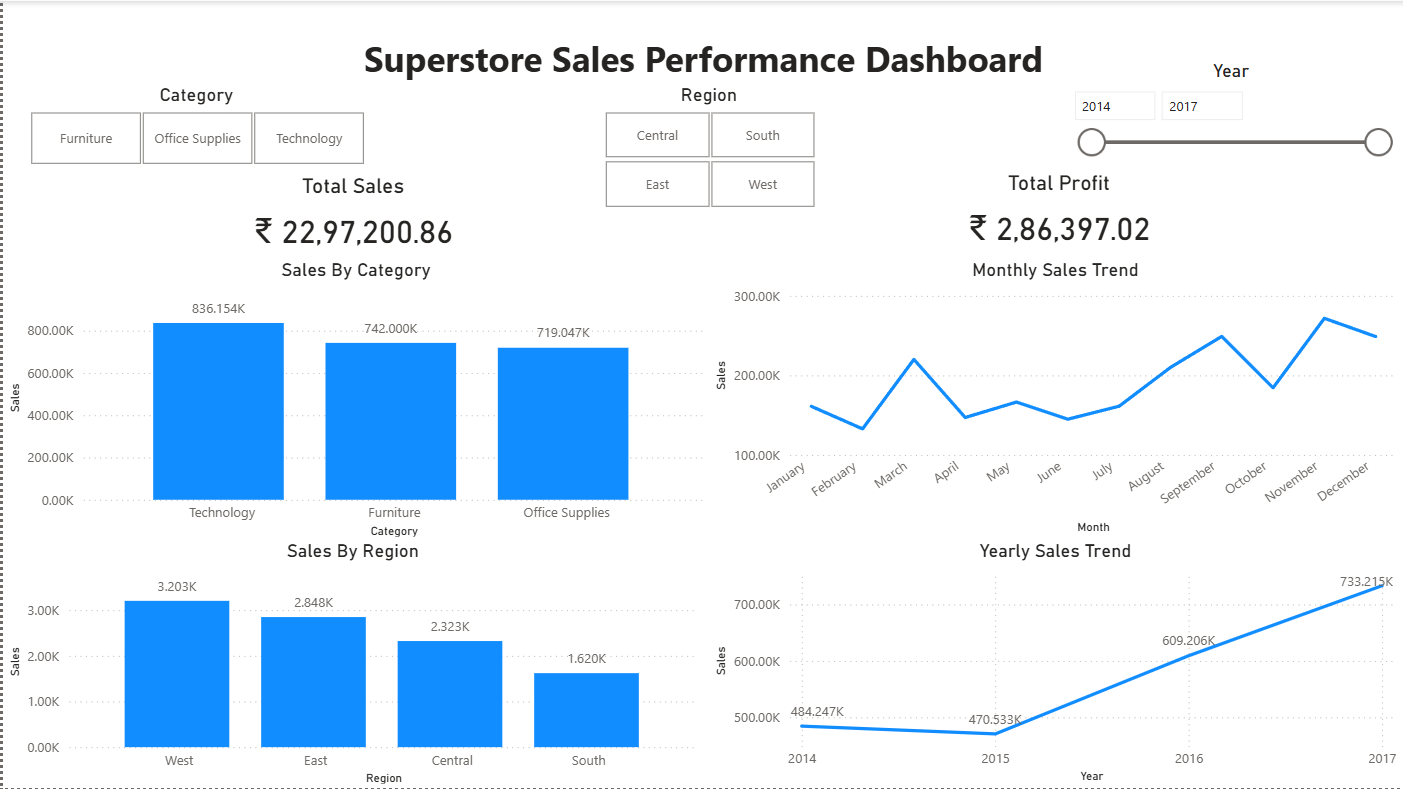

What the dashboard file says about the page in this screenshot:
{"tool":"powerbi","page":{"name":"Sales Overview","canvas":[1280,720],"ordinal":0},"visuals":[{"type":"card","title":"Total Sales","fields":{"Values":["Sum(Sample - Superstore (2).Sales)"]},"box":[212,157.5,218,80.3],"z":0},{"type":"card","title":"Total Profit","fields":{"Values":["Sum(Sample - Superstore (2).Profit)"]},"box":[870.7,154.4,192.3,80.3],"z":1000},{"type":"clusteredColumnChart","title":"Sales By Category","fields":{"Category":["Sample - Superstore (2).Category"],"Y":["Sum(Sample - Superstore (2).Sales)"]},"box":[0,236.2,646.6,258.9],"z":2000},{"type":"clusteredColumnChart","title":"Sales By Region","fields":{"Category":["Sample - Superstore (2).Region"],"Y":["CountNonNull(Sample - Superstore (2).State)"]},"box":[0,492.1,640.5,228.6],"z":3000},{"type":"lineChart","title":"Yearly Sales Trend","fields":{"Category":["Sample - Superstore (2).Year"],"Y":["Sum(Sample - Superstore (2).Sales)"]},"box":[646.6,492.1,632.9,227.1],"z":4000},{"type":"lineChart","title":"Monthly Sales Trend","fields":{"Y":["Sum(Sample - Superstore (2).Sales)"],"Category":["Sample - Superstore (2).Order Date.Variation.Date Hierarchy.Month"]},"box":[646.6,236.2,632.9,255.9],"z":5000},{"type":"textbox","box":[325.6,24.2,640.5,56],"z":6000},{"type":"slicer","title":"Category","fields":{"Values":["Sample - Superstore (2).Category"]},"box":[0,75.7,354.3,80.3],"z":6001},{"type":"slicer","title":"Region","fields":{"Values":["Sample - Superstore (2).Region"]},"box":[525.4,75.7,240.8,119.6],"z":6002},{"type":"slicer","title":"Year","fields":{"Values":["Sample - Superstore (2).Year"]},"box":[967.6,53,311.9,101.5],"z":6003}]}

Visuals, with their boxes in screenshot pixels (x1, y1, x2, y2), scaled from the page's 1280x720 canvas onto the 1403x789 screenshot:
"Total Sales" card: <region>232, 173, 471, 261</region>
"Total Profit" card: <region>954, 169, 1165, 257</region>
"Sales By Category" clusteredColumnChart: <region>0, 259, 709, 543</region>
"Sales By Region" clusteredColumnChart: <region>0, 539, 702, 788</region>
"Yearly Sales Trend" lineChart: <region>709, 539, 1402, 788</region>
"Monthly Sales Trend" lineChart: <region>709, 259, 1402, 539</region>
textbox: <region>357, 27, 1059, 88</region>
"Category" slicer: <region>0, 83, 388, 171</region>
"Region" slicer: <region>576, 83, 840, 214</region>
"Year" slicer: <region>1061, 58, 1402, 169</region>
